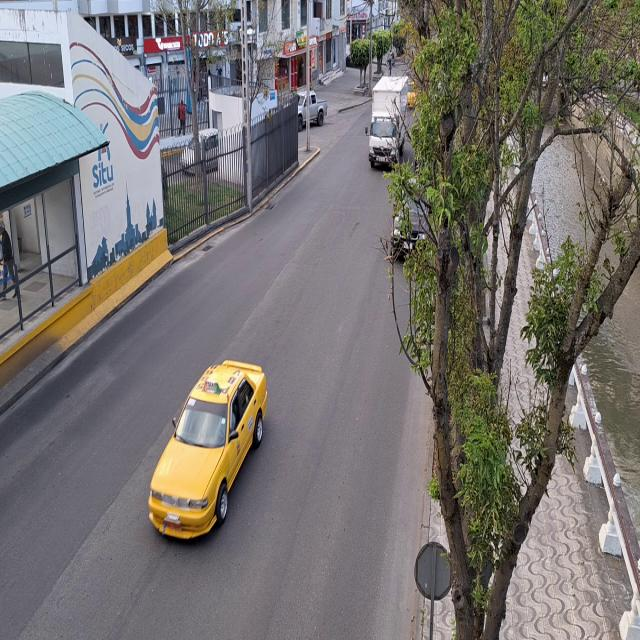CMT: (151, 356, 270, 552), (298, 86, 328, 130)
TRUCK: (369, 78, 407, 170)
